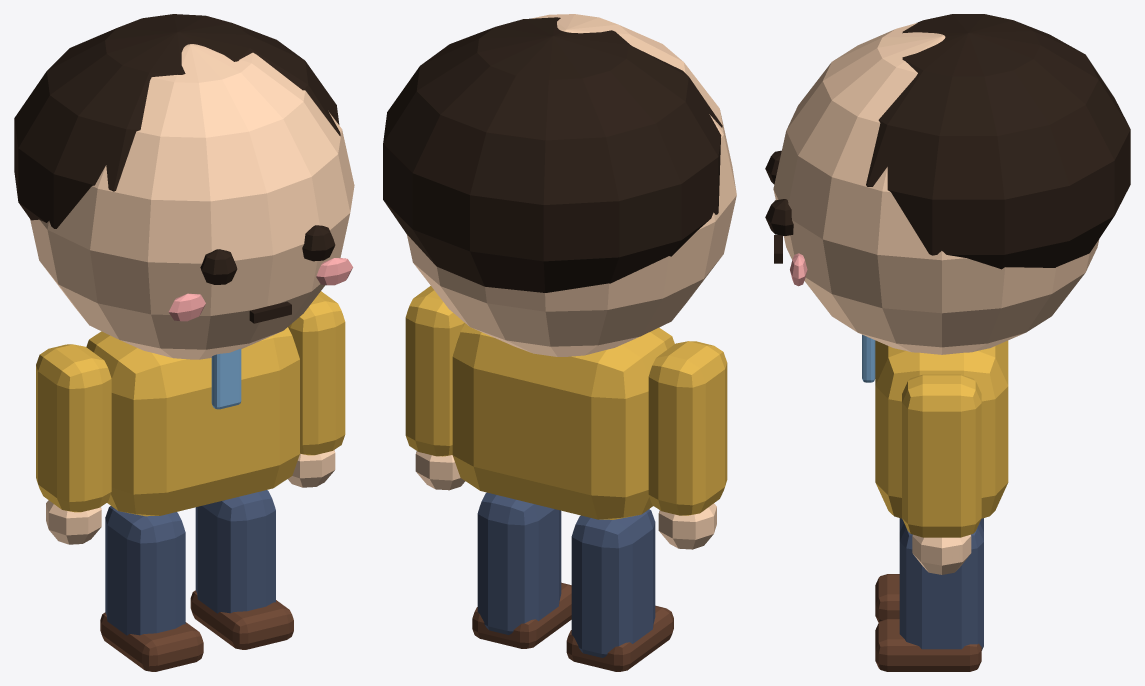
The model's file is kar_penjaga_bank.fbx.
The picture shows the model from 3 angles, left to right: view 1: azimuth 30°, elevation 25°; view 2: azimuth 150°, elevation 25°; view 3: azimuth 270°, elevation 25°; orthographic projection. The views are drawn at different scales.
Parts seen in each view (by area): view 1: kar_penjaga_bank; view 2: kar_penjaga_bank; view 3: kar_penjaga_bank.
Part boxes in pixels (x1,y1,x2,y2): kar_penjaga_bank: (14, 14, 354, 671); kar_penjaga_bank: (383, 14, 736, 671); kar_penjaga_bank: (765, 14, 1130, 671).
Bounding box in the file's own units: 76 × 151 × 82.44.
Materials: 1 (1 with a texture image).
